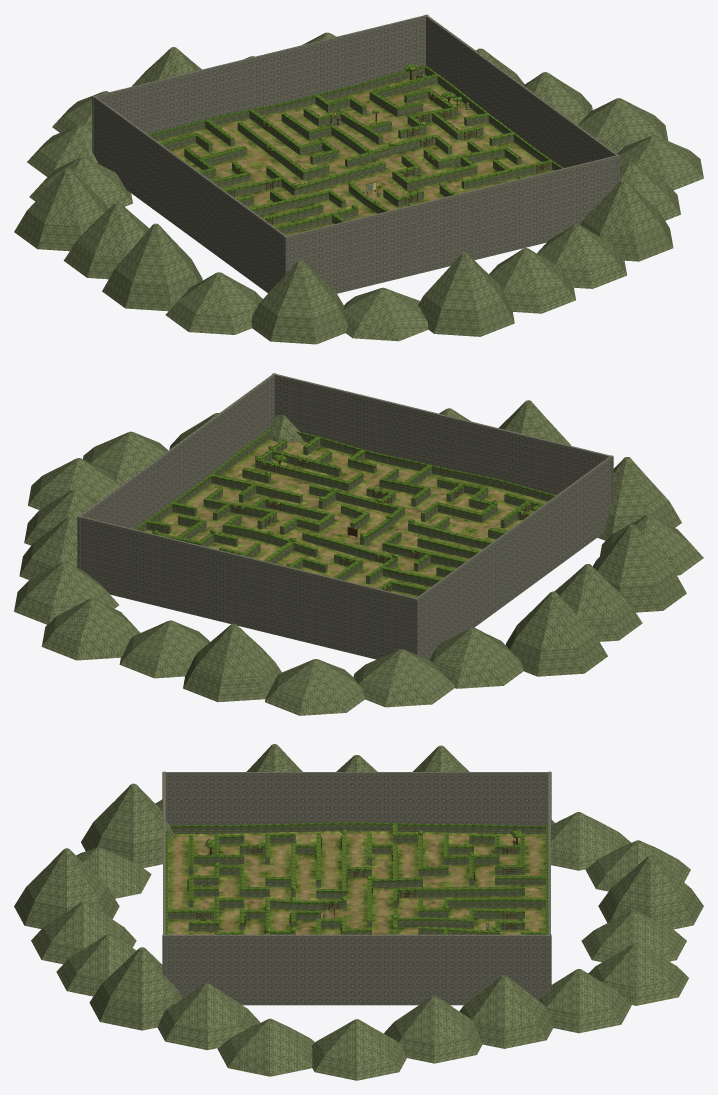
Rendered from QuinceFold-18e07b340f3b.glb.
The picture shows the model from 3 angles, top to bottom: view 1: azimuth 30°, elevation 25°; view 2: azimuth 150°, elevation 25°; view 3: azimuth 270°, elevation 25°; orthographic projection.
Parts seen in each view (by area): view 1: C_Solids, Horizon, Rim, Terrain, Set; view 2: C_Solids, Horizon, Rim, Terrain, Set; view 3: Horizon, C_Solids, Terrain, Rim, Set.
Boxes of the visible parts, box(x1,y1,x2,y2) form: C_Solids: box(92, 14, 620, 293); Horizon: box(14, 32, 703, 344); Rim: box(148, 65, 563, 235); Terrain: box(157, 74, 553, 235); Set: box(196, 64, 549, 224); C_Solids: box(77, 373, 613, 659); Horizon: box(14, 400, 703, 715); Rim: box(134, 428, 556, 595); Terrain: box(144, 439, 547, 597); Set: box(152, 446, 540, 591); Horizon: box(14, 744, 703, 1080); C_Solids: box(162, 771, 551, 1005); Terrain: box(168, 831, 545, 934); Rim: box(165, 822, 548, 934); Set: box(187, 829, 522, 934).
Size of the model in its own units: 218 by 26 by 216.
Materials: 18 (18 with a texture image).
